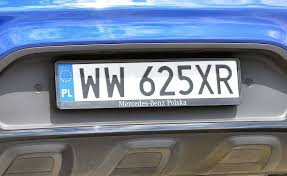number_plate: (55, 61, 239, 105)
